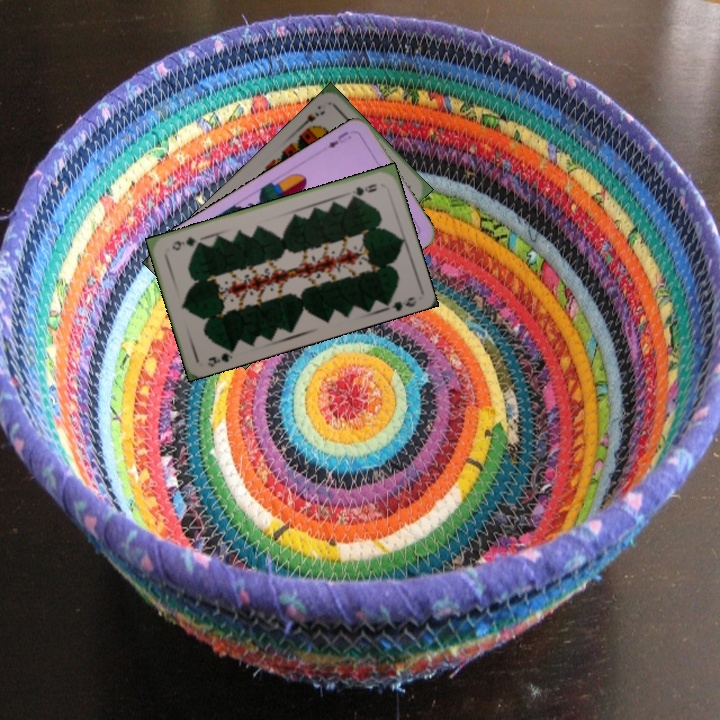EU: (323, 127, 354, 151)
G9: (204, 344, 237, 369), (346, 179, 379, 200)
S9: (295, 106, 328, 134)
